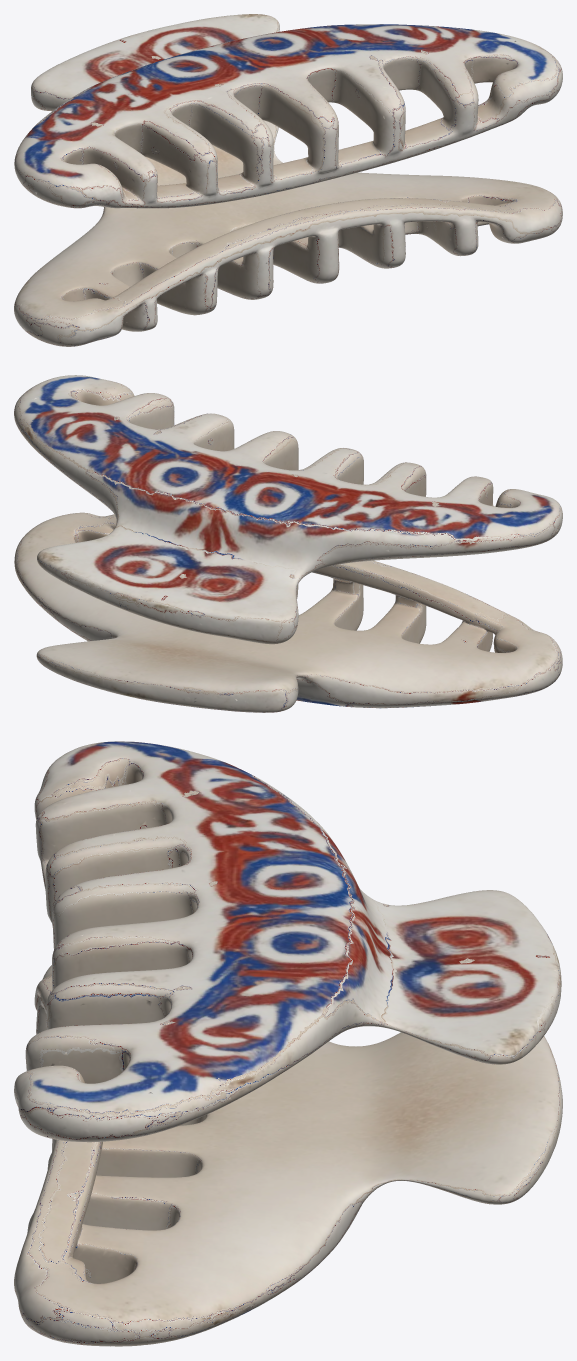
3 views of the same model, one above another, from view 1: azimuth 30°, elevation 25°; view 2: azimuth 150°, elevation 25°; view 3: azimuth 270°, elevation 25° (orthographic). The views are drawn at different scales.
Bounding box in the file's own units: 1.77 × 0.6009 × 1.09.
1 material, 1 textured.
